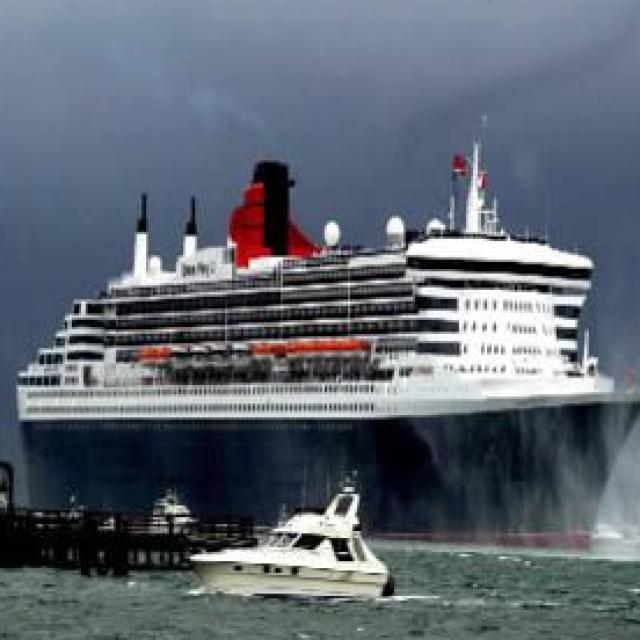houseboat: (179, 478, 381, 595)
passenger ship: (6, 150, 637, 543)
